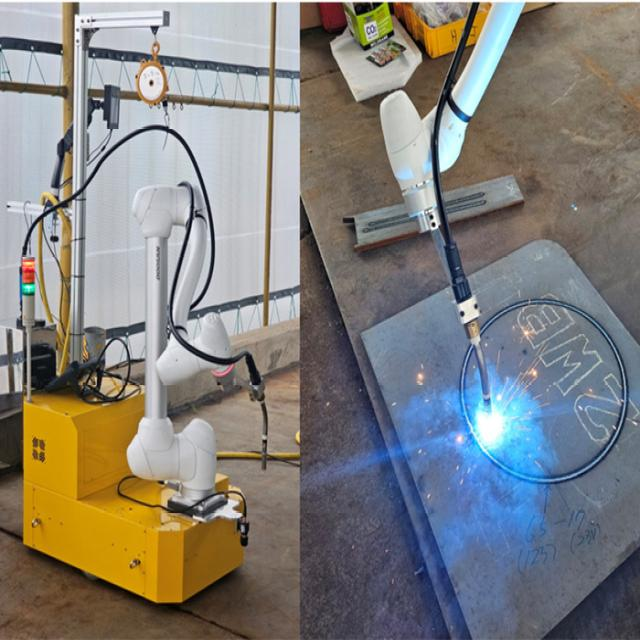welding: (475, 405, 507, 448)
